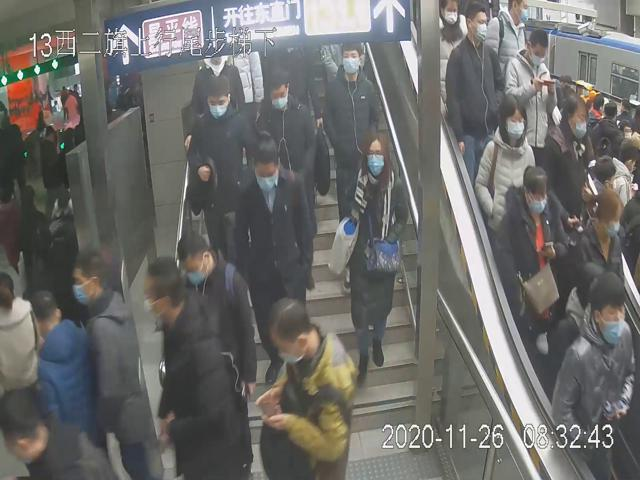person: (233, 130, 315, 385), (175, 231, 257, 479), (343, 128, 411, 390), (253, 66, 318, 292), (185, 73, 258, 271), (494, 163, 569, 345), (322, 40, 382, 233), (445, 2, 505, 182), (472, 95, 536, 225)
